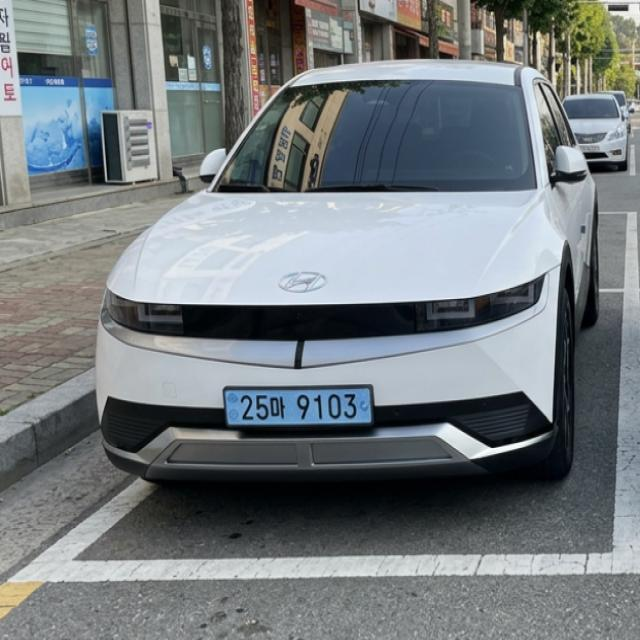car: (215, 377, 392, 447)
carev: (222, 381, 241, 434), (356, 380, 373, 431)
